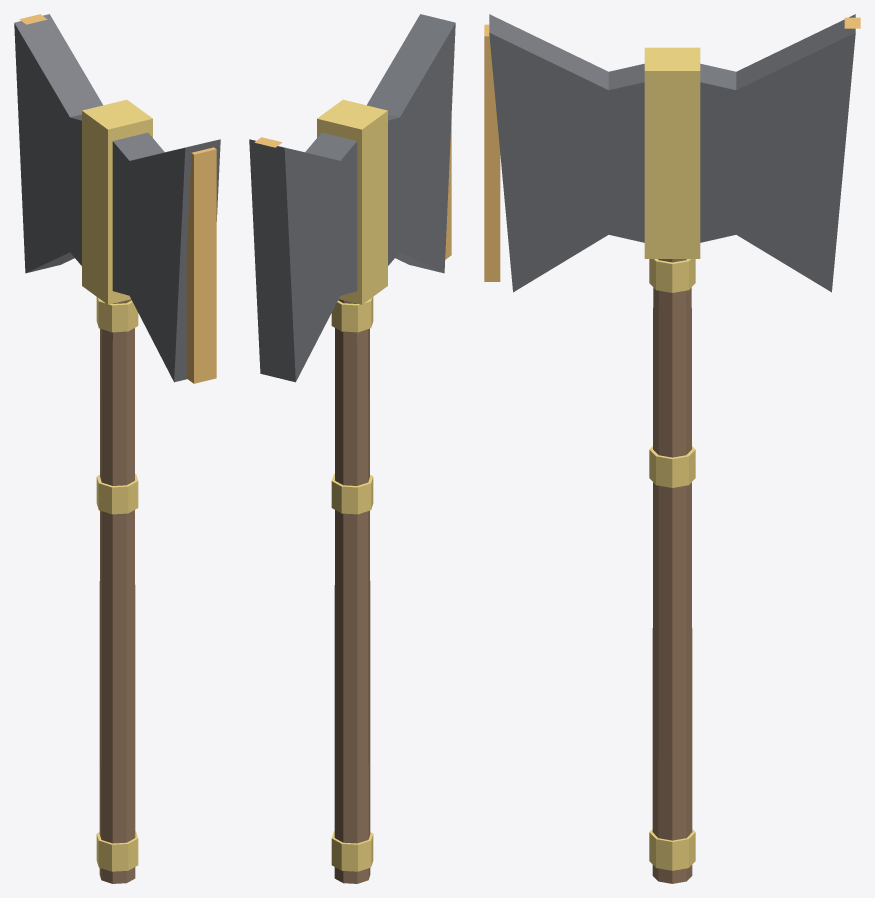
Rendered from Axe_4.fbx.
3 renders of one model, left to right at view 1: azimuth 30°, elevation 25°; view 2: azimuth 150°, elevation 25°; view 3: azimuth 270°, elevation 25°, orthographic. The views are drawn at different scales.
Visible parts, largest first — view 1: Axe_4_Mesh; view 2: Axe_4_Mesh; view 3: Axe_4_Mesh.
Boxes of the visible parts, box(x1,y1,x2,y2) form: Axe_4_Mesh: box(14, 14, 220, 883); Axe_4_Mesh: box(249, 14, 455, 883); Axe_4_Mesh: box(484, 14, 860, 883).
Bounding box in the file's own units: 0.07 × 1.18 × 0.472.
